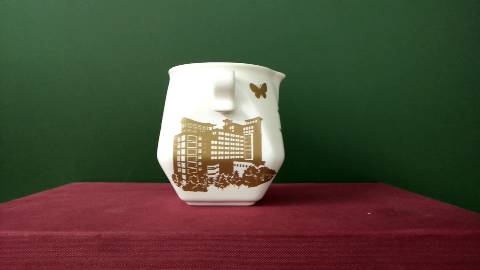butterfly: (242, 68, 275, 106)
lenwen: (178, 127, 261, 182)
